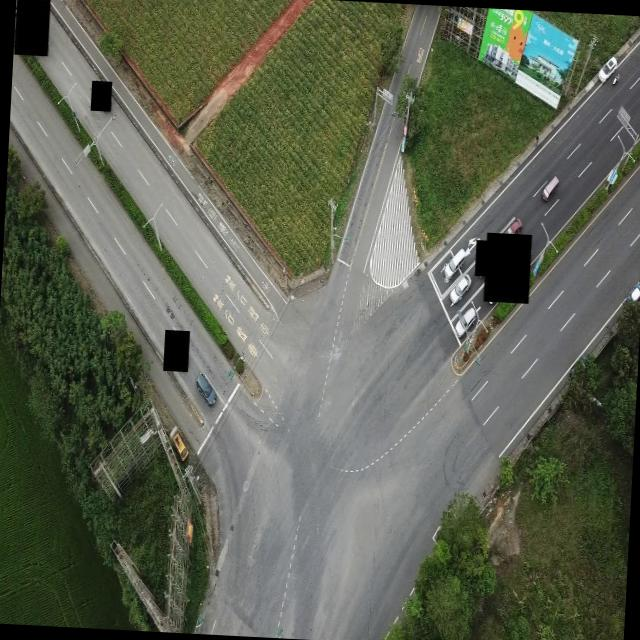car: (452, 301, 478, 340), (195, 372, 218, 407), (443, 248, 467, 281), (450, 271, 472, 304), (598, 55, 618, 83), (542, 174, 560, 200), (505, 216, 522, 234)
